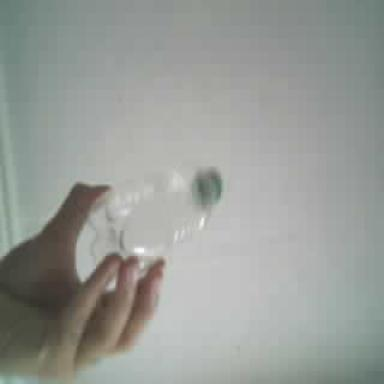bottle: (86, 166, 222, 275)
